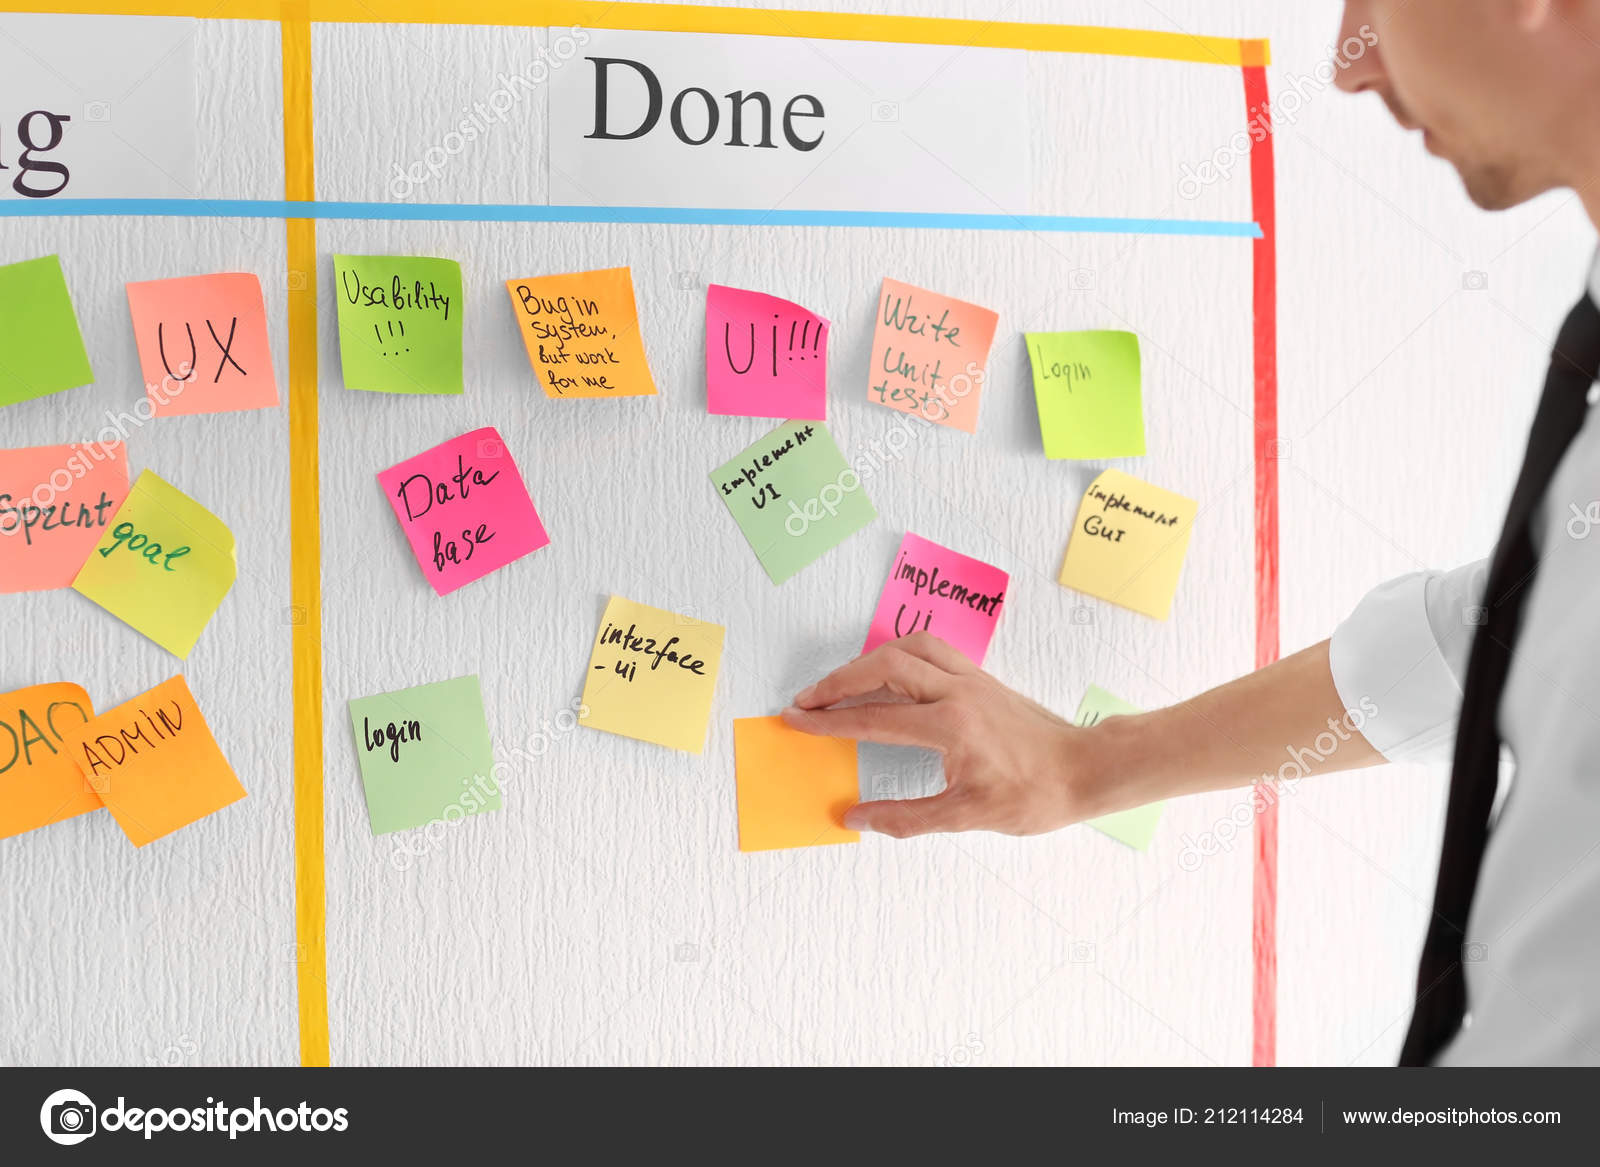stickynote: (60, 671, 252, 846), (70, 465, 244, 654), (380, 422, 558, 586), (344, 666, 509, 831), (123, 260, 286, 423), (707, 417, 886, 563), (500, 256, 664, 408), (1049, 465, 1200, 623), (860, 274, 1007, 433), (578, 591, 727, 743), (323, 246, 470, 399), (700, 274, 836, 425), (1016, 319, 1153, 460)
